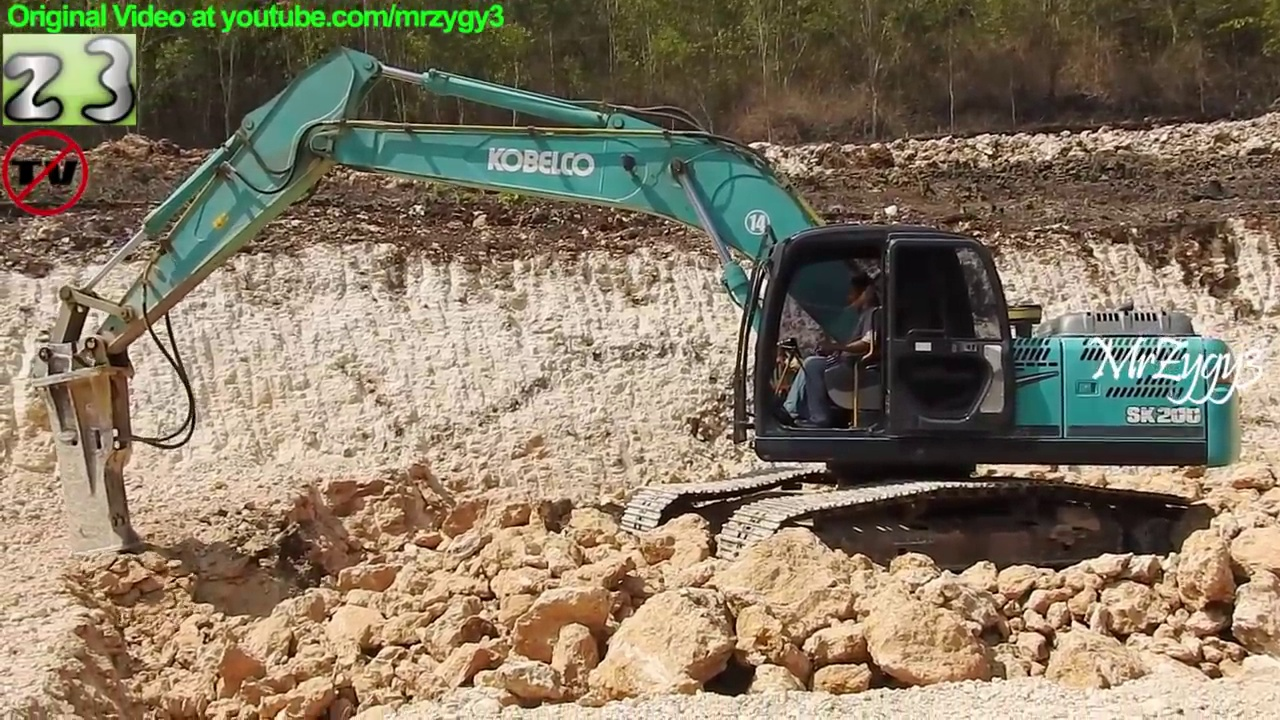excavator breaker: (30, 41, 1247, 595)
